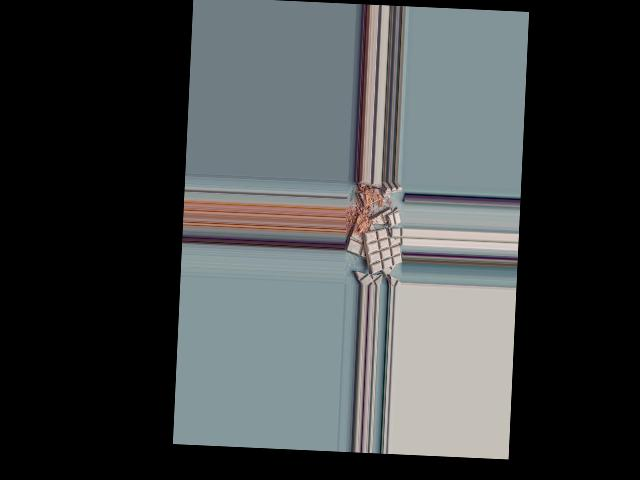chocolate: (361, 227, 403, 276)
